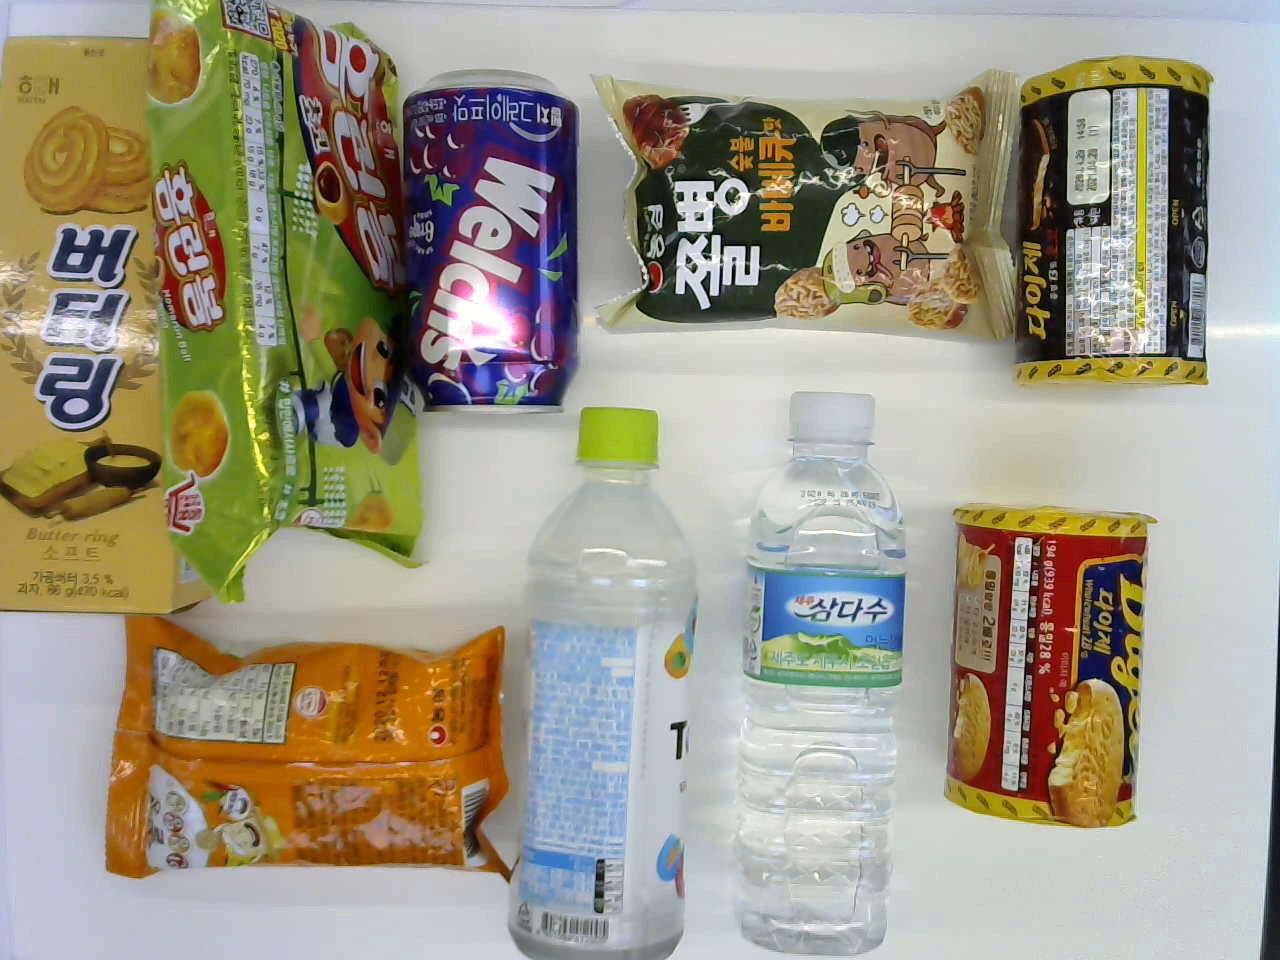buttering: (1, 23, 211, 622)
diget_choco: (1024, 39, 1211, 405)
diget_ori: (953, 482, 1139, 847)
homerunball: (161, 0, 421, 585)
jjolbyung_noodle: (94, 619, 504, 891)
jjolbyung_ori: (603, 77, 1002, 350)
samdasu: (739, 382, 922, 946)
toreta: (520, 398, 703, 960)
welchs: (398, 55, 584, 419)
